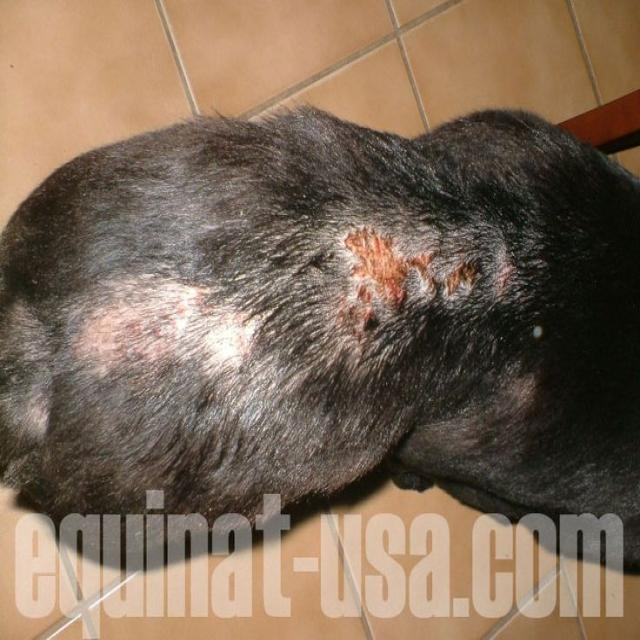allergic dermatitis: (58, 263, 286, 423)
